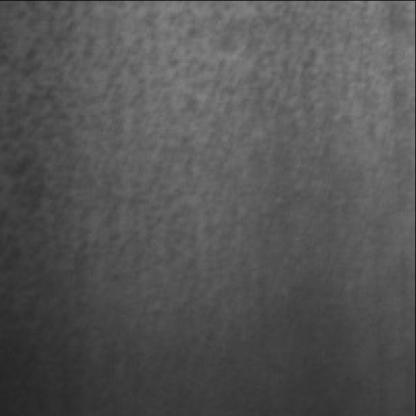pitted_surface: (5, 6, 348, 318)
